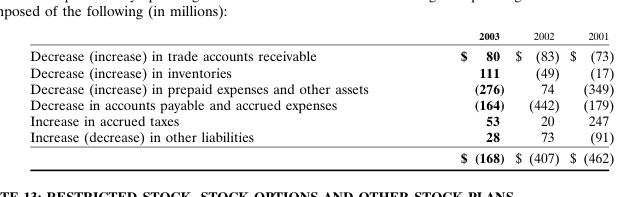table: (29, 29, 613, 165)
table column: (29, 29, 413, 165), (413, 29, 509, 165), (509, 29, 563, 165), (563, 29, 613, 165)
table column header: (29, 29, 613, 44)
table row: (29, 44, 613, 63), (29, 146, 613, 165), (29, 128, 613, 146), (29, 95, 613, 112), (29, 63, 613, 79), (29, 79, 613, 95), (29, 112, 613, 128), (29, 29, 613, 44)
